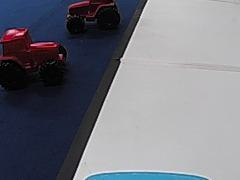Tracktor: (0, 24, 70, 88), (62, 0, 122, 32)
